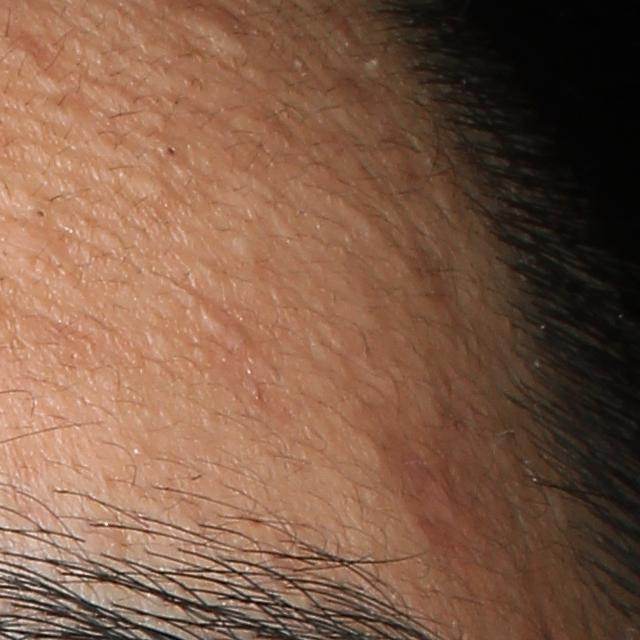comedo: (129, 170, 174, 200), (205, 306, 239, 341), (230, 231, 253, 255), (28, 203, 52, 224), (157, 141, 180, 161)
